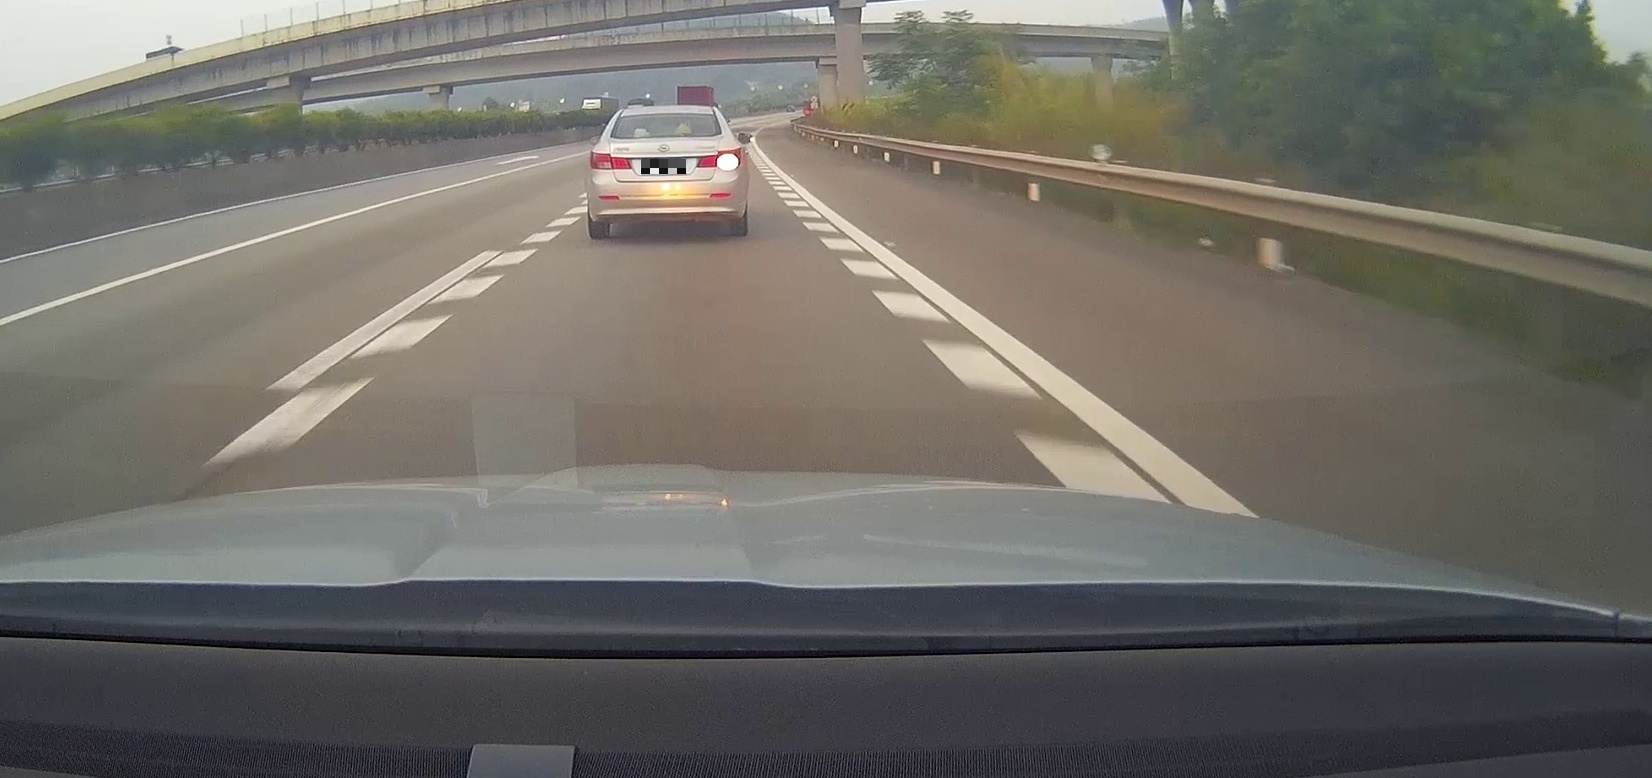L_light: (589, 150, 633, 170)
R_light: (696, 147, 743, 168)
T_light: (651, 134, 684, 137)
day-right: (585, 105, 749, 239)
plate_1: (641, 159, 686, 174)
